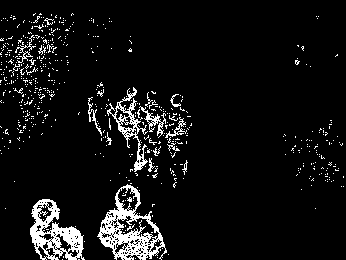person: (168, 90, 195, 187), (83, 80, 115, 149), (144, 87, 165, 180), (118, 84, 140, 162)
